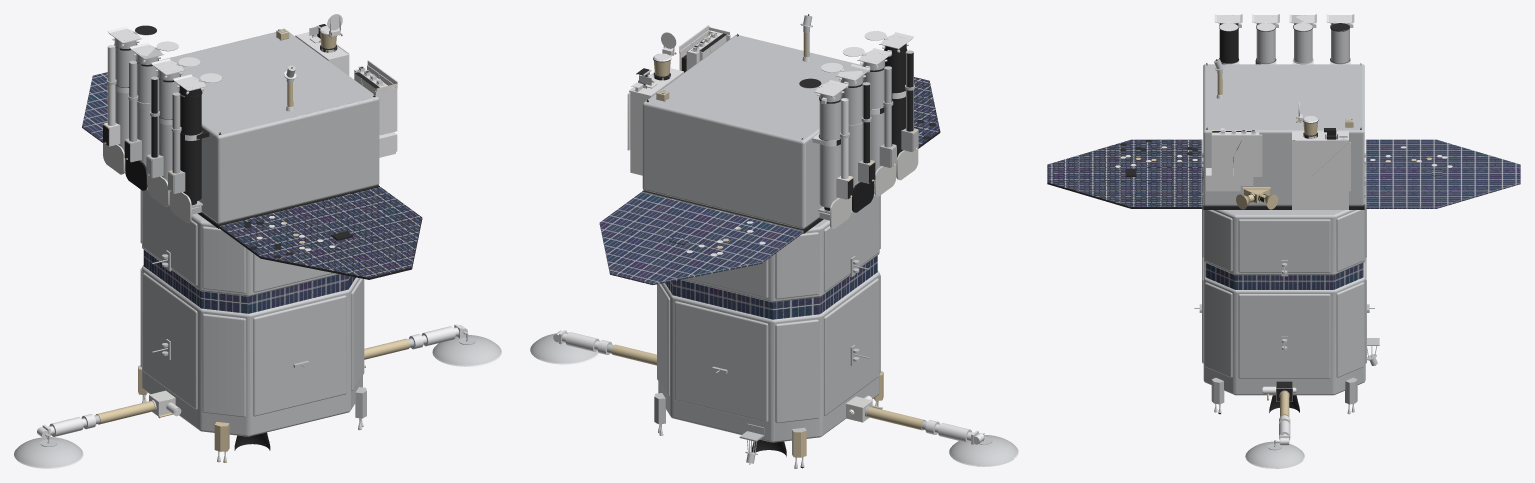
File: sdo.glb
3 views of the same model, side by side, from view 1: azimuth 30°, elevation 25°; view 2: azimuth 150°, elevation 25°; view 3: azimuth 270°, elevation 25° (orthographic). The views are drawn at different scales.
Parts seen in each view (by area): view 1: Fake; view 2: Fake; view 3: Fake.
Boxes of the visible parts, <box> form: Fake: <box>14,14,501,468</box>; Fake: <box>530,14,1018,468</box>; Fake: <box>1047,14,1520,468</box>.
Bounding box in the file's own units: 5.42 × 4.5 × 5.42.
Materials: 8 (1 with a texture image).
